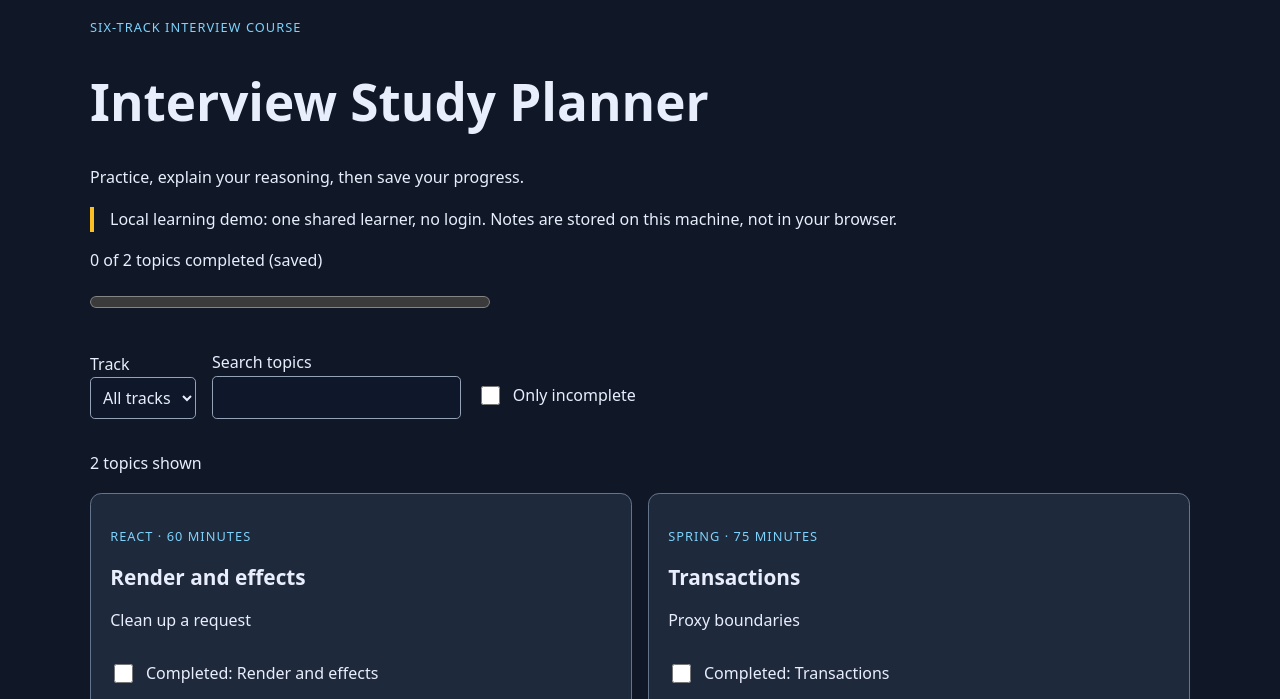
Test: study planner › keeps unsaved edits and announces write failures without changing saved count
Click the checkbox labelled "Completed: Render and effects": coordinates (124, 674) [114, 664, 133, 683]
(page scrolled)
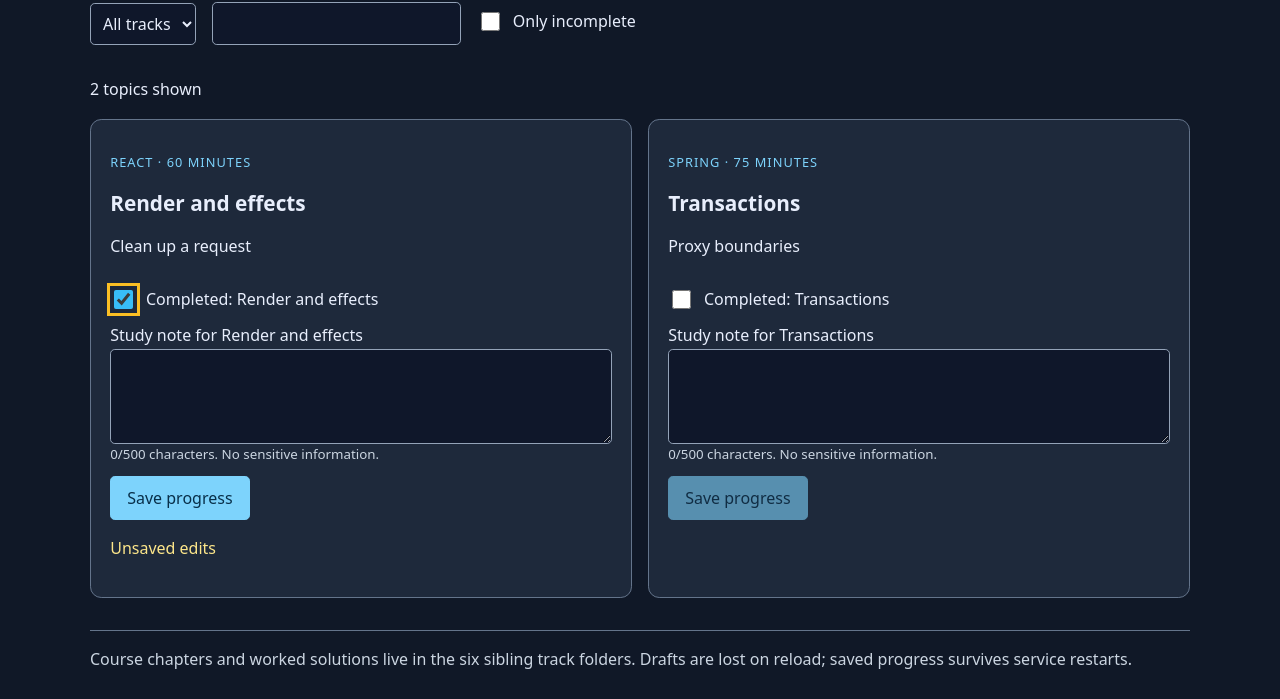
In the text box labelled "Study note for Render and effects": coordinates (361, 396) [110, 349, 612, 444], type "Retry later"
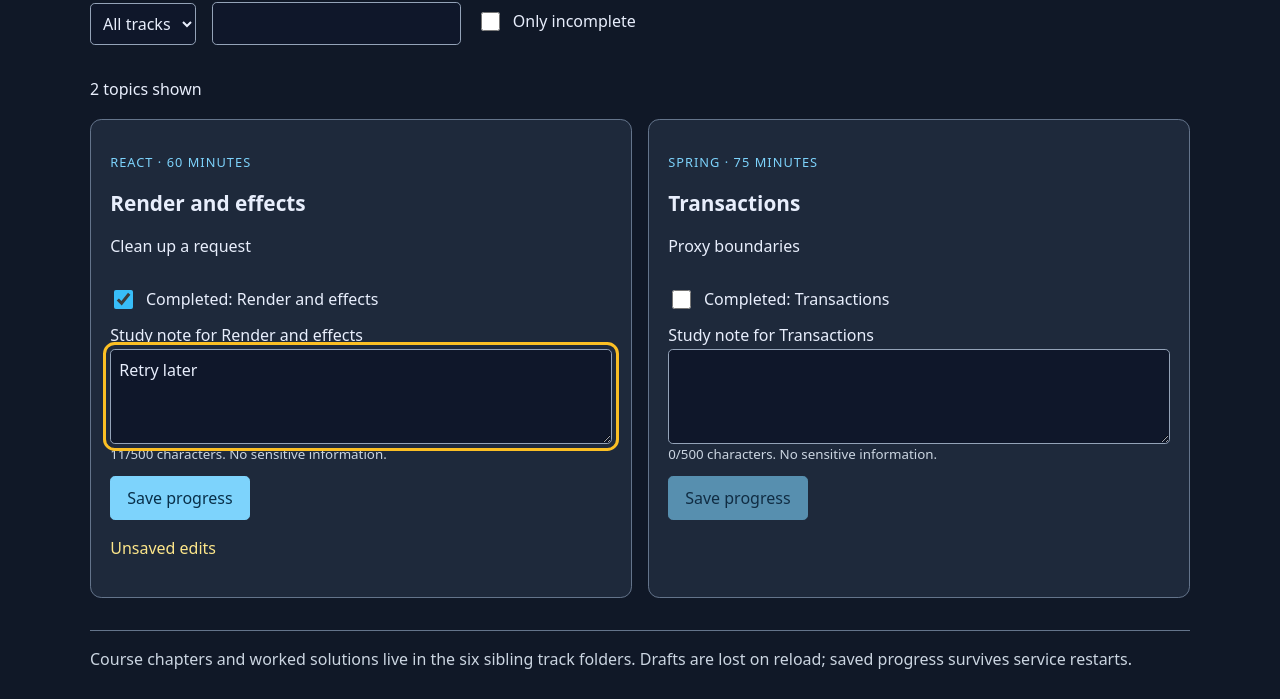
Click the button "Save progress" below "11": coordinates (180, 498) [110, 476, 250, 520]
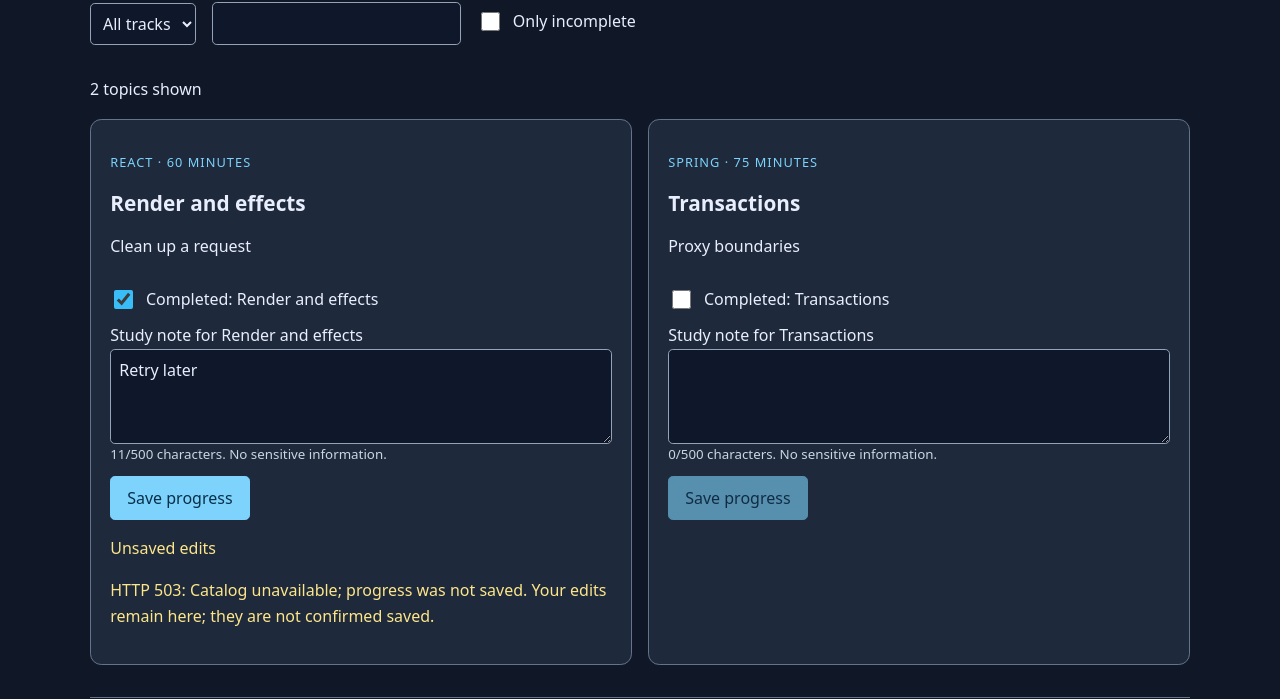
Check: the button "Save progress" below "11" is enabled, box [110, 476, 250, 520]
Check: the message shows "HTTP 503", box [110, 579, 606, 626]
